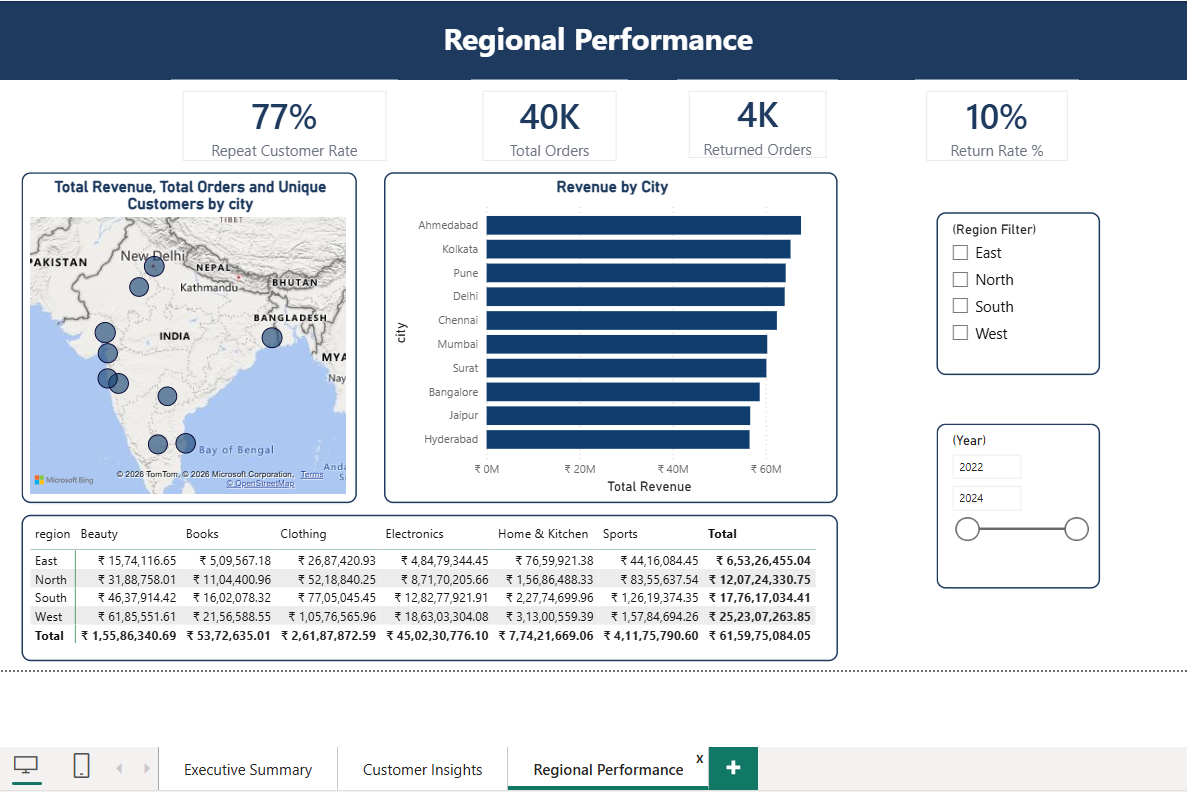

This screenshot's page, from the dashboard's own definition file:
{"tool":"powerbi","page":{"name":" Regional Performance","canvas":[1280,720],"ordinal":2},"visuals":[{"type":"shape","box":[0,0,1280.3,85.1],"z":0},{"type":"textbox","box":[0,1.4,1280.3,83.7],"z":1000},{"type":"cardVisual","fields":{"Data":["_Measures.Repeat Customer Rate"]},"box":[185.6,84.7,243.4,99.5],"z":2000},{"type":"cardVisual","fields":{"Data":["_Measures.Total Orders"]},"box":[508.3,84.7,168.1,99.5],"z":3000},{"type":"cardVisual","fields":{"Data":["_Measures.Returned Orders"]},"box":[730.2,84.7,172.1,96.8],"z":4000},{"type":"cardVisual","fields":{"Data":["_Measures.Return Rate %"]},"box":[985.8,84.7,176.2,99.5],"z":8000},{"type":"map","fields":{"Category":["ecommerce_transactions.city"],"Size":["_Measures.Total Revenue"]},"box":[24.2,184.2,360.4,356.4],"z":8001},{"type":"clusteredBarChart","title":"Revenue by City","fields":{"Category":["ecommerce_transactions.city"],"Y":["_Measures.Total Revenue"]},"box":[414.2,184.2,488.2,356.4],"z":8002},{"type":"pivotTable","fields":{"Rows":["ecommerce_transactions.region"],"Columns":["ecommerce_transactions.category"],"Values":["_Measures.Total Revenue"]},"box":[24.2,552.7,878.2,157.3],"z":8003},{"type":"slicer","fields":{"Values":["ecommerce_transactions.region"]},"box":[1008.6,227.3,176.2,174.8],"z":8004},{"type":"slicer","fields":{"Values":["ecommerce_transactions.year"]},"box":[1008.6,454.6,176.2,177.5],"z":8005}]}

Visuals, with their boxes on the page's 1280x720 design canvas (x1, y1, x2, y2). These are canvas units, not pixel positions in the 1187x792 screenshot, which may show the page scaled, cropped or inside an application window:
shape: box(0, 0, 1280, 85)
textbox: box(0, 1, 1280, 85)
cardVisual - _Measures.Repeat Customer Rate: box(186, 85, 429, 184)
cardVisual - _Measures.Total Orders: box(508, 85, 676, 184)
cardVisual - _Measures.Returned Orders: box(730, 85, 902, 182)
cardVisual - _Measures.Return Rate %: box(986, 85, 1162, 184)
map - ecommerce_transactions.city x _Measures.Total Revenue: box(24, 184, 385, 541)
"Revenue by City" clusteredBarChart: box(414, 184, 902, 541)
pivotTable - ecommerce_transactions.region x ecommerce_transactions.category: box(24, 553, 902, 710)
slicer - ecommerce_transactions.region: box(1009, 227, 1185, 402)
slicer - ecommerce_transactions.year: box(1009, 455, 1185, 632)
